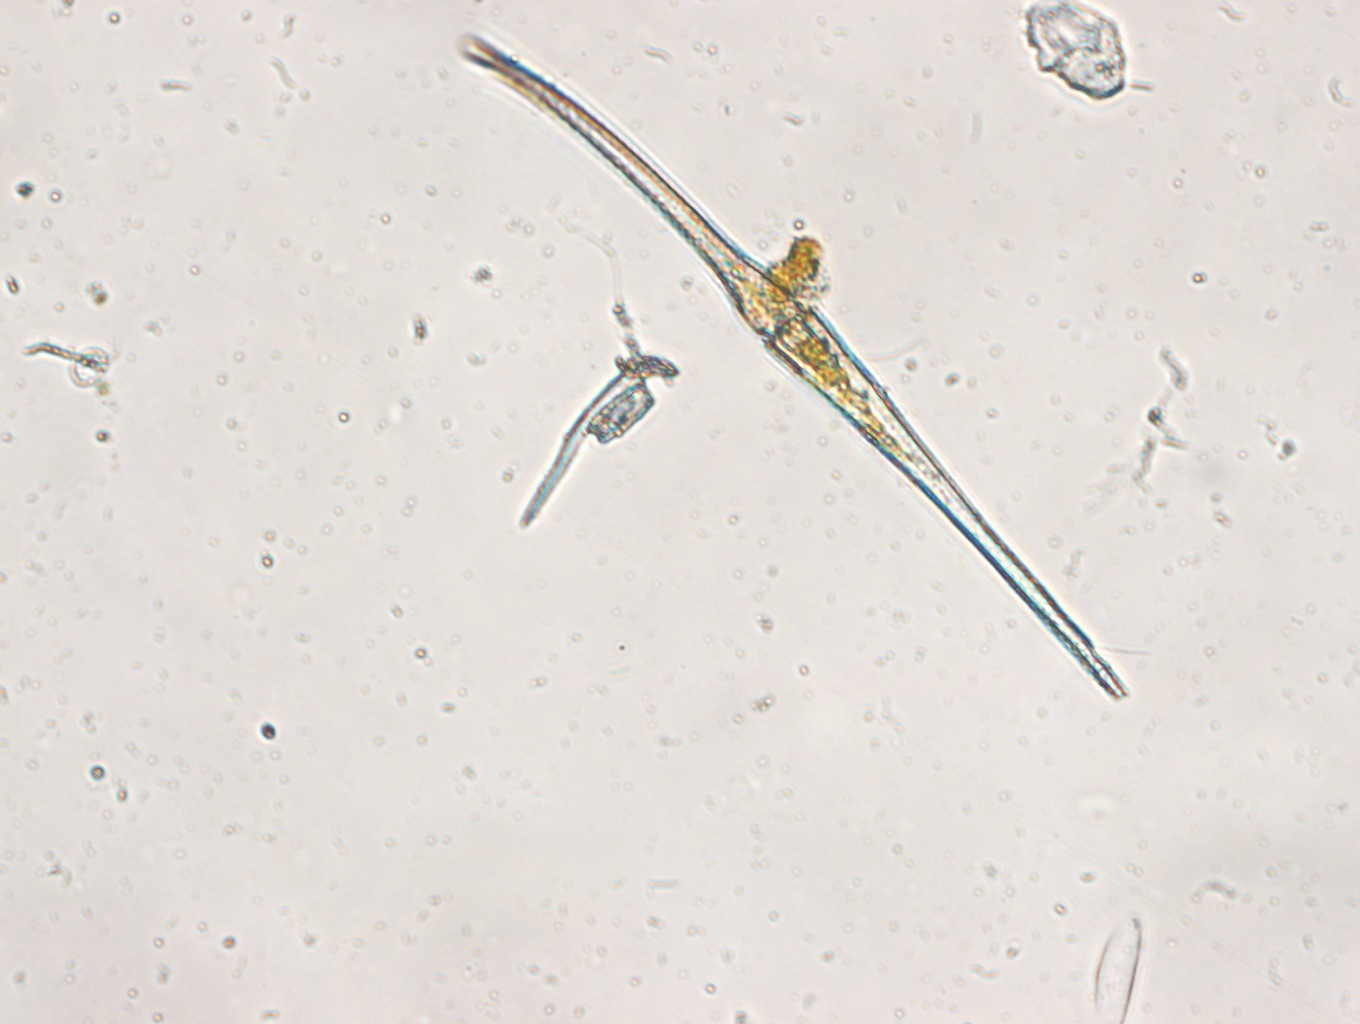ceratium fusus: (453, 30, 1136, 710)
